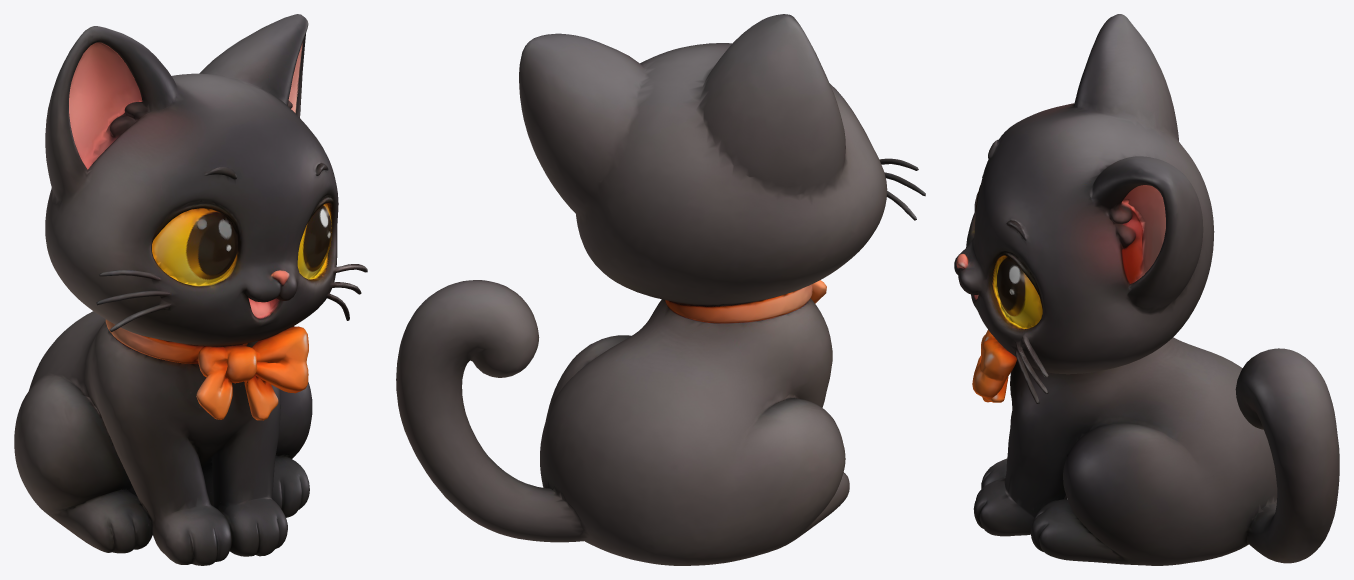
The model's file is black_cat.glb.
3 renders of one model, left to right at view 1: azimuth 30°, elevation 25°; view 2: azimuth 150°, elevation 25°; view 3: azimuth 270°, elevation 25°, orthographic. The views are drawn at different scales.
Visible parts, largest first — view 1: tripo_node_188bc908-9612-4109-b750-503e0183396c; view 2: tripo_node_188bc908-9612-4109-b750-503e0183396c; view 3: tripo_node_188bc908-9612-4109-b750-503e0183396c.
Part boxes in pixels (left/top/right/bottom): tripo_node_188bc908-9612-4109-b750-503e0183396c: left=14, top=14, right=367, bottom=565; tripo_node_188bc908-9612-4109-b750-503e0183396c: left=396, top=14, right=925, bottom=565; tripo_node_188bc908-9612-4109-b750-503e0183396c: left=954, top=14, right=1339, bottom=565.
Bounding box in the file's own units: 0.7345 × 1 × 0.7455.
1 material, 1 textured.
